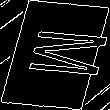M_E: (5, 28, 105, 82)
